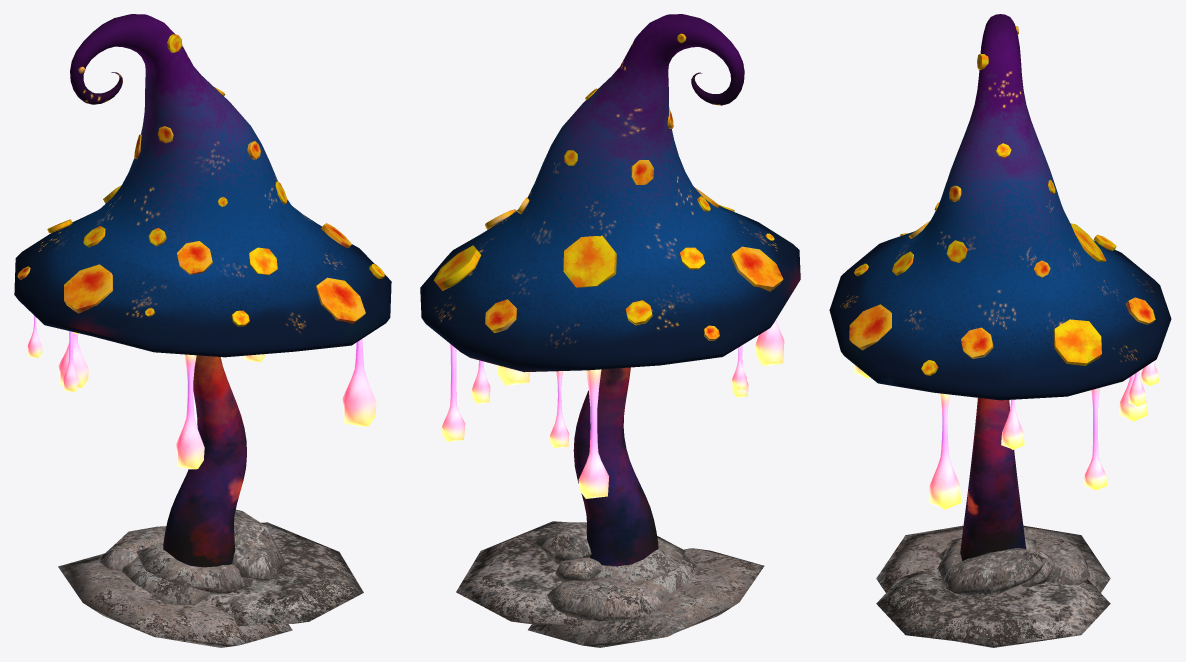
File: mushroom1_edit_for_FBX.fbx
3 renders of one model, left to right at view 1: azimuth 30°, elevation 25°; view 2: azimuth 150°, elevation 25°; view 3: azimuth 270°, elevation 25°, orthographic. The views are drawn at different scales.
Parts seen in each view (by area): view 1: Mushroom01; view 2: Mushroom01; view 3: Mushroom01.
Part boxes in pixels (x1=…): Mushroom01: x1=14, y1=14, x2=391, y2=647; Mushroom01: x1=420, y1=14, x2=800, y2=647; Mushroom01: x1=829, y1=14, x2=1171, y2=647.
Bounding box in the file's own units: 678 × 1232 × 678.
